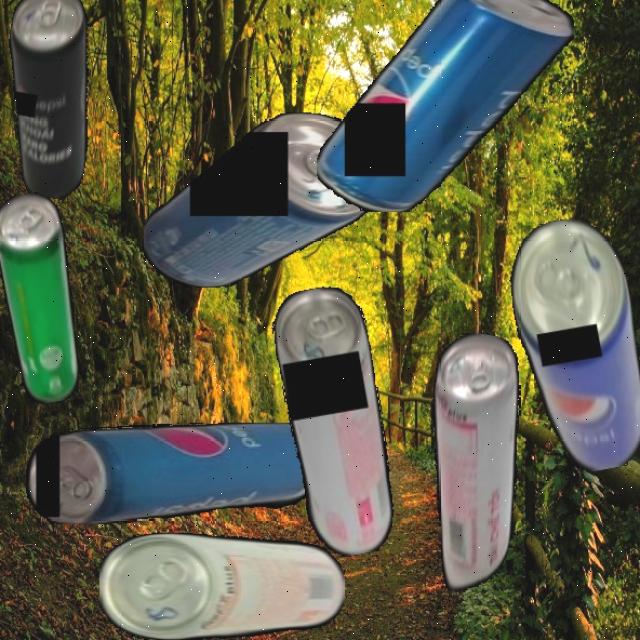debris: (317, 0, 574, 212), (142, 112, 382, 288), (399, 327, 544, 599), (267, 281, 405, 562), (500, 211, 640, 480), (25, 422, 319, 524), (99, 532, 345, 640), (0, 0, 114, 202), (0, 189, 92, 407)
